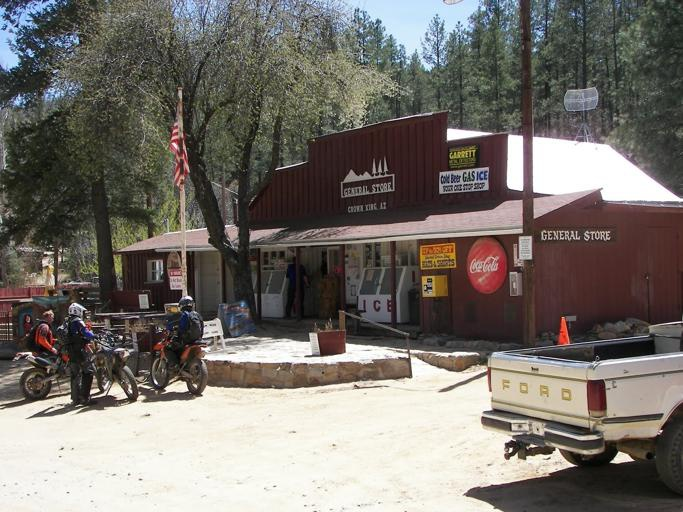non-vehicle: (11, 338, 96, 400), (148, 322, 208, 394), (93, 329, 138, 400)
